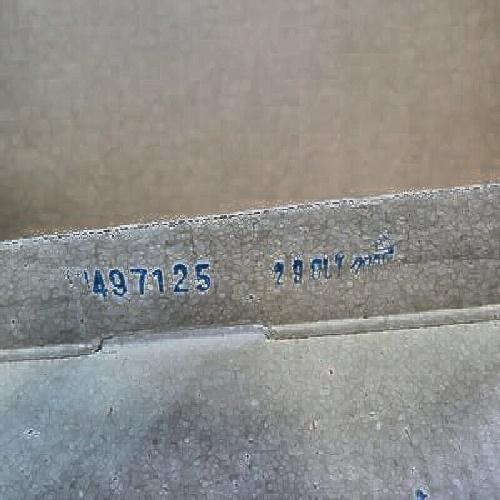kettle: (16, 209, 483, 474)
